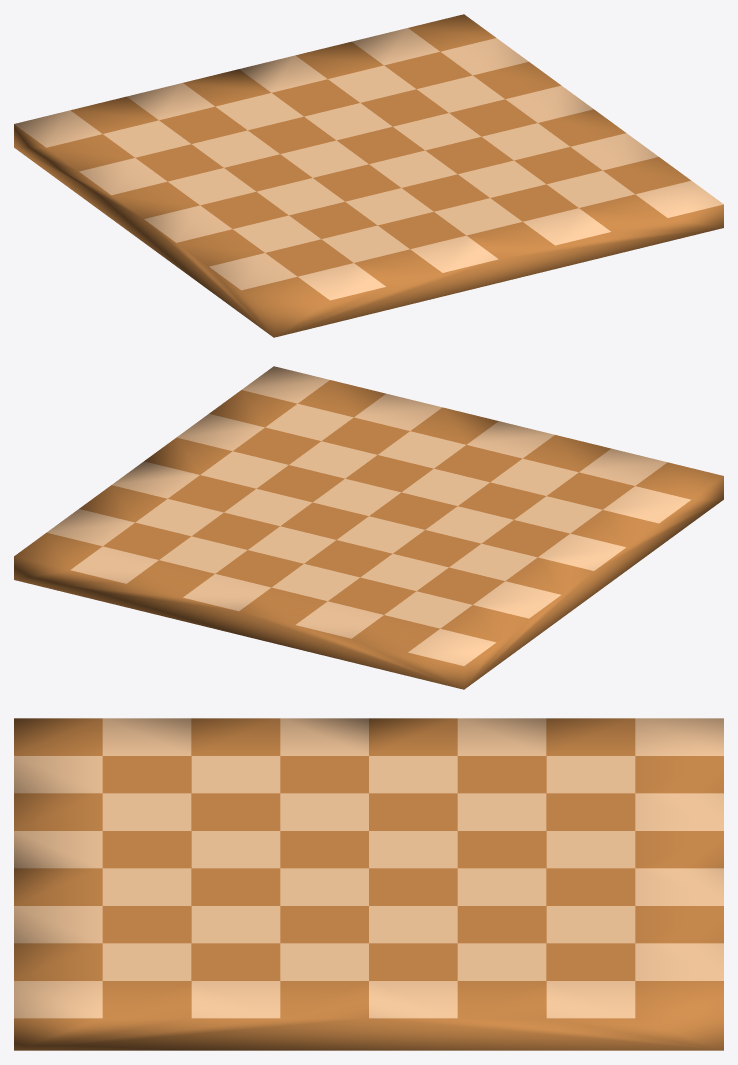
File: board.obj
3 renders of one model, top to bottom at view 1: azimuth 30°, elevation 25°; view 2: azimuth 150°, elevation 25°; view 3: azimuth 270°, elevation 25°, orthographic. The views are drawn at different scales.
Visible parts, largest first — view 1: board_dark, board_light; view 2: board_dark, board_light; view 3: board_dark, board_light.
Part boxes in pixels (left/top/right/bottom): board_dark: left=14, top=14, right=723, bottom=337; board_light: left=14, top=28, right=723, bottom=300; board_dark: left=14, top=380, right=723, bottom=689; board_light: left=47, top=366, right=690, bottom=665; board_dark: left=14, top=718, right=723, bottom=1050; board_light: left=14, top=718, right=723, bottom=1018.
Size of the model in its own units: 4 by 0.2 by 4.
